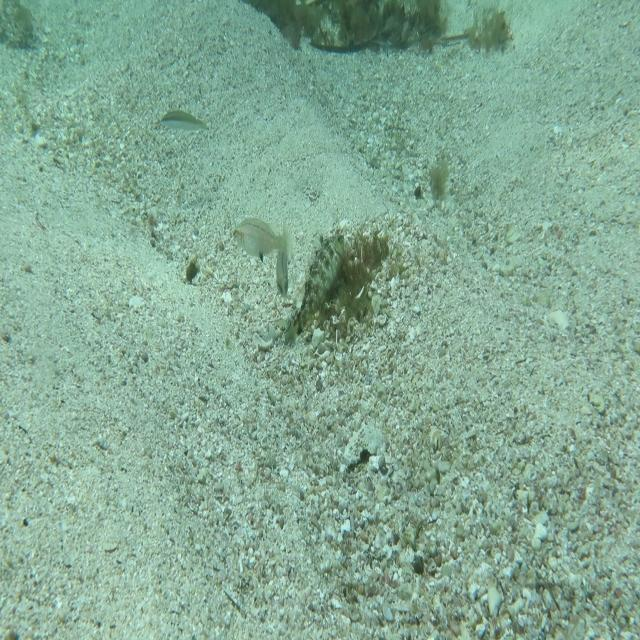Coris_julis_female: (157, 106, 213, 139)
ROLL: (280, 227, 349, 350)
female: (269, 223, 294, 300)
nest: (304, 222, 401, 338)
other_fish: (230, 211, 300, 268)
